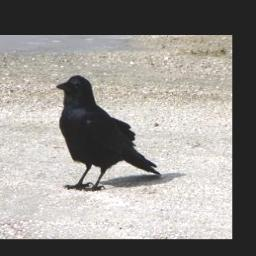Crow: (52, 73, 163, 192)
